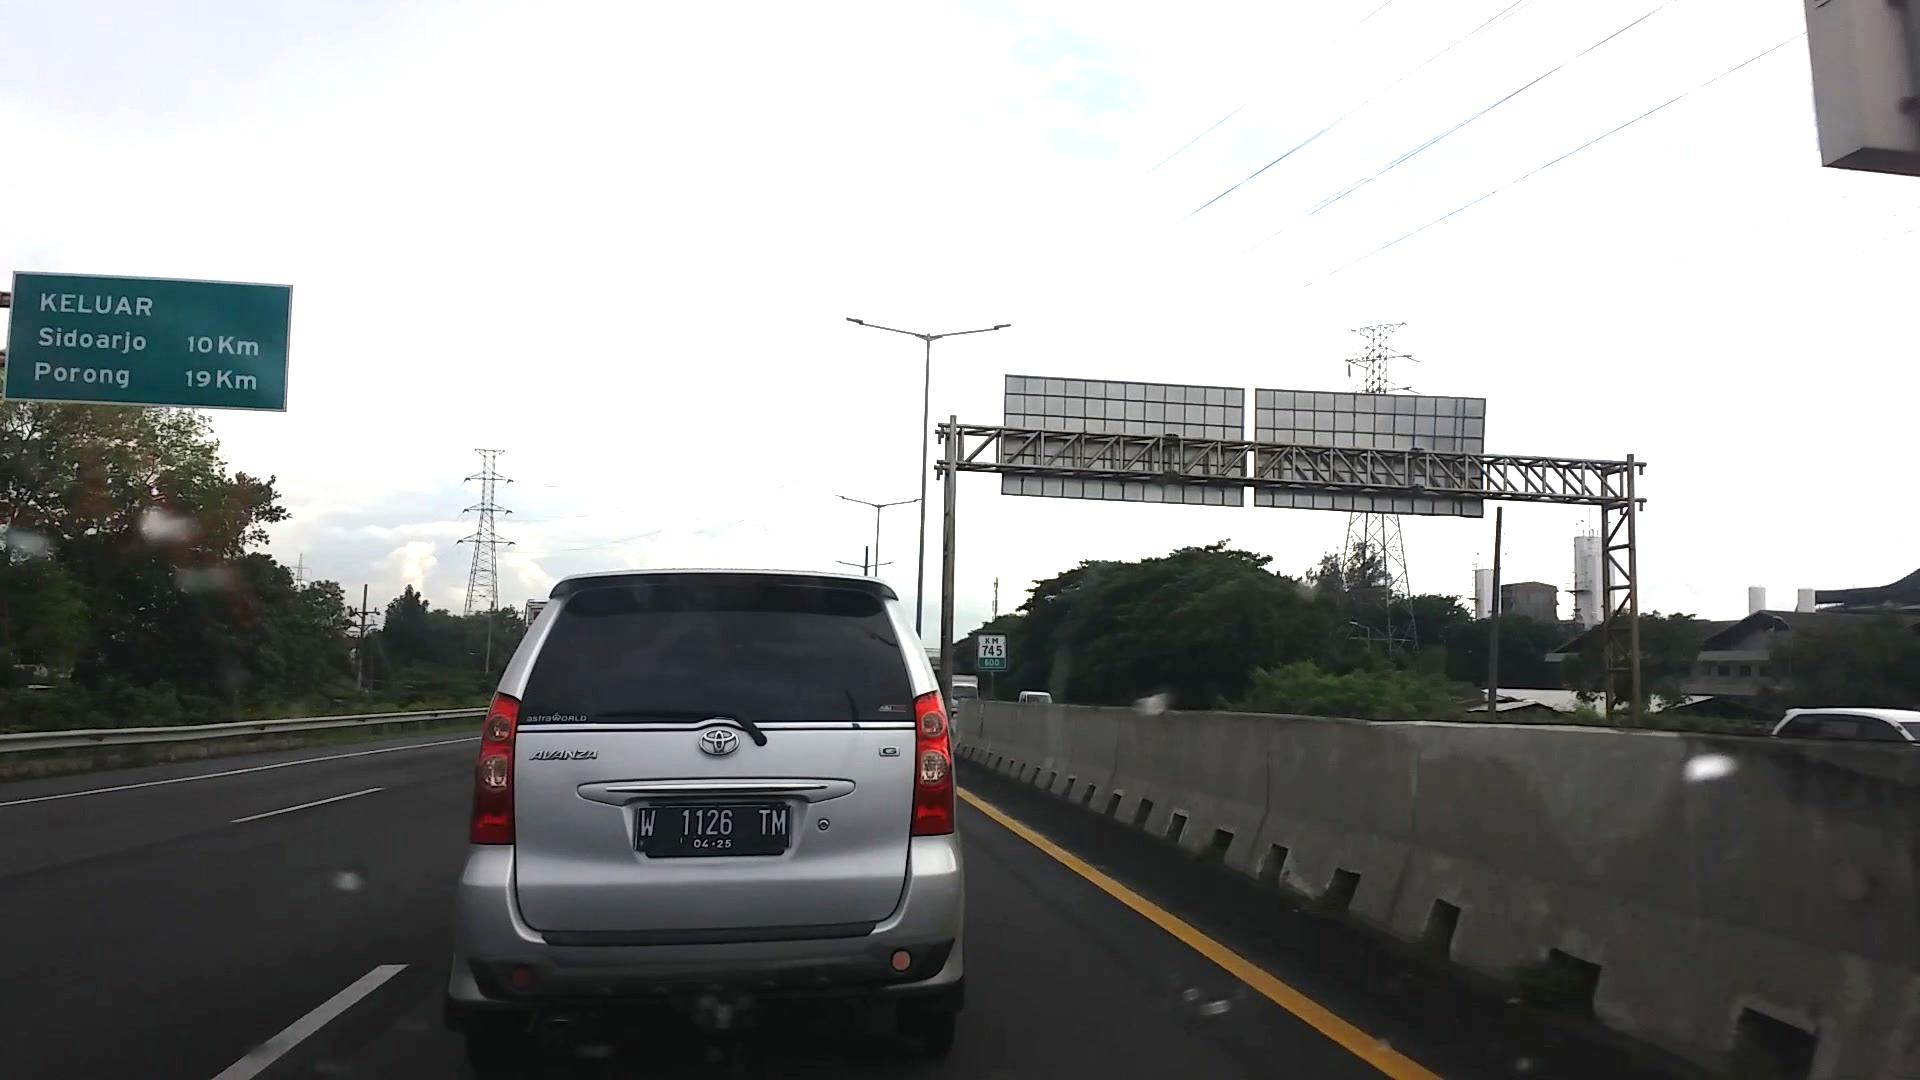plate_positive: (634, 804, 791, 851)
